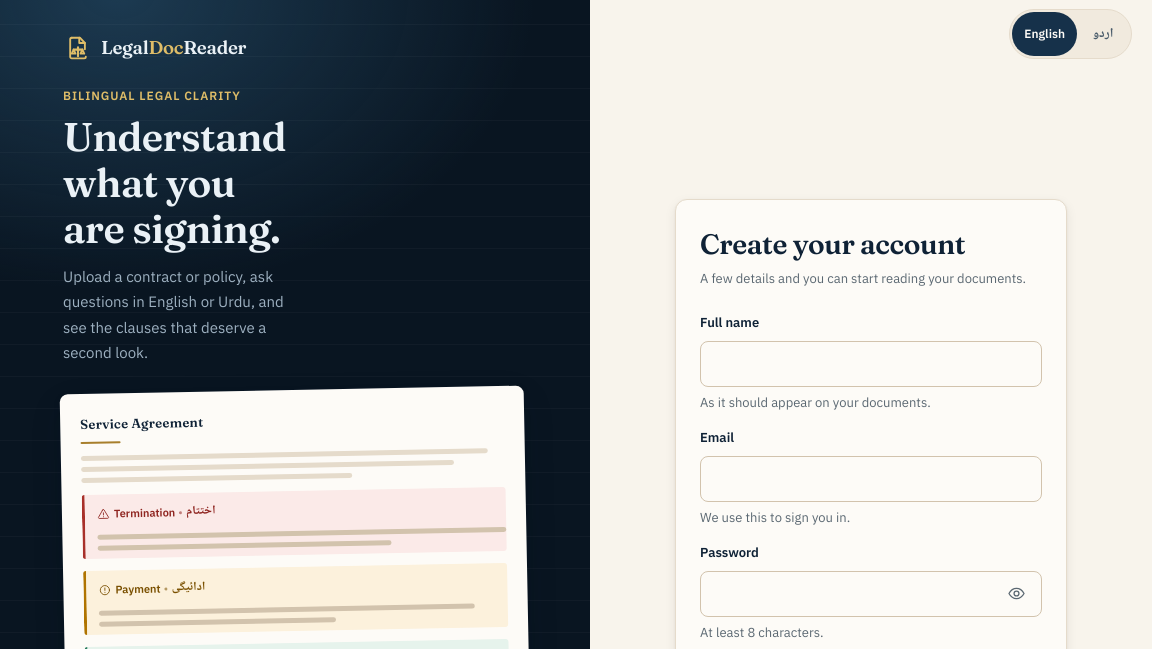
Scenario: SignUp form › shows a server-problem banner for a 500
Type "Ayesha Khan" into the field labelled "Full name".
click(871, 364); type("Ayesha Khan")  # box [700,341,1042,387]
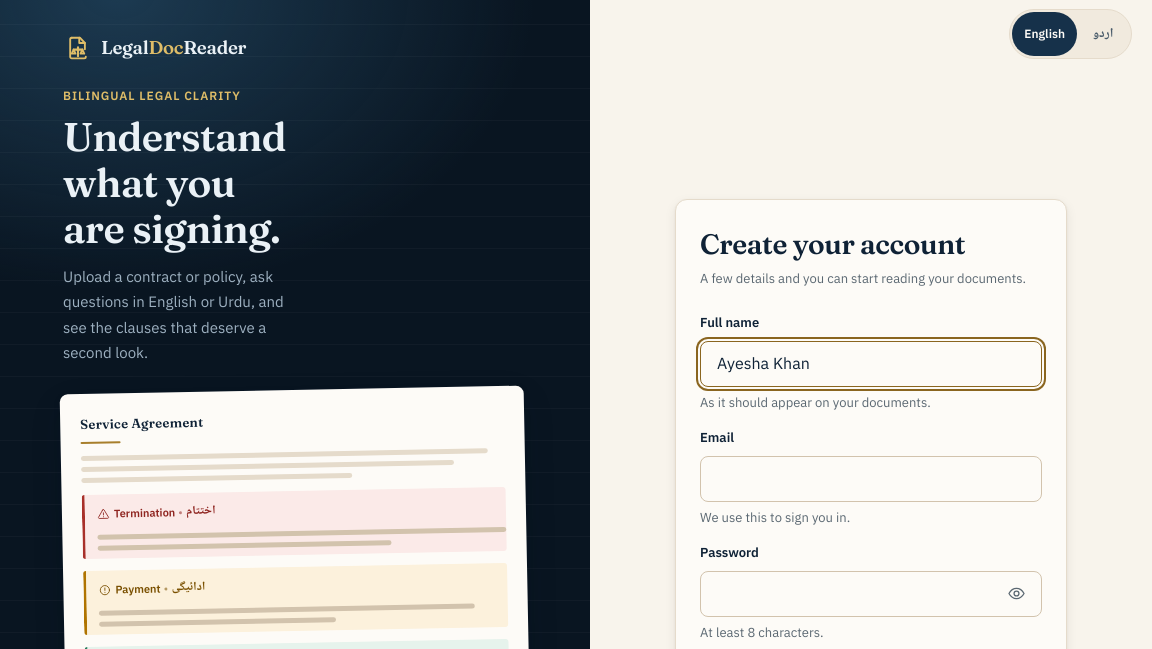
Type "ayesha@example.com" into the field labelled "Email".
click(871, 479); type("ayesha@example.com")  # box [700,456,1042,502]
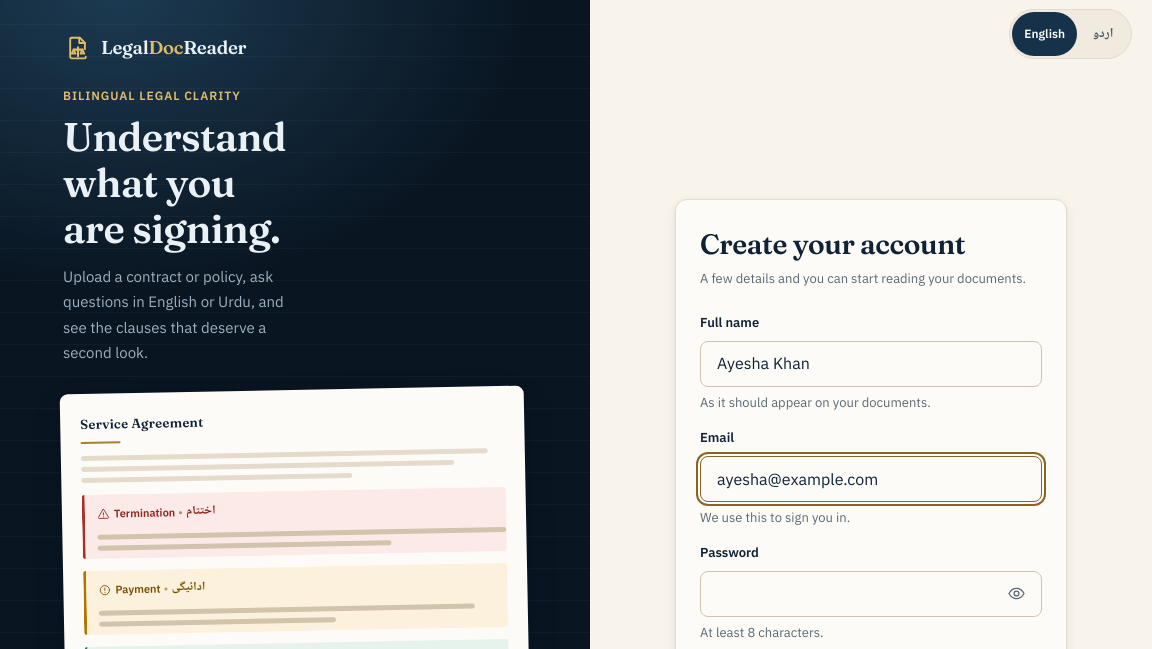
Type "S3cure-pass!" into the password field with id "signup-password".
click(871, 594); type("S3cure-pass!")  # box [700,571,1042,617]
(page scrolled)
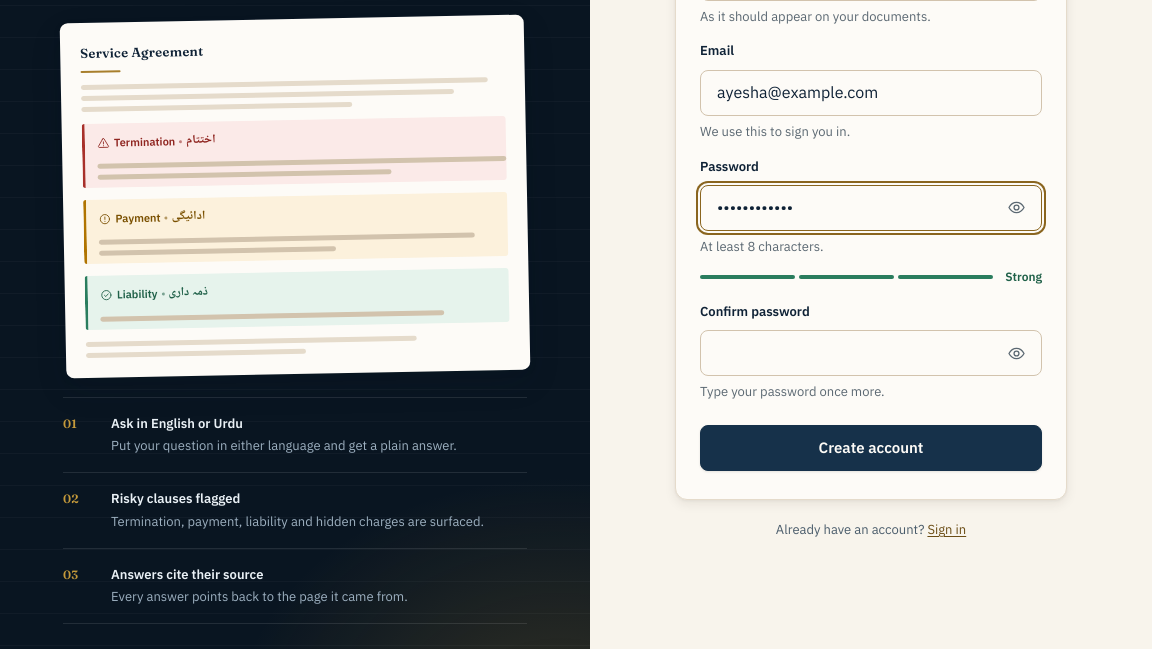
Type "S3cure-pass!" into the password field with id "signup-confirm-password".
click(871, 353); type("S3cure-pass!")  # box [700,330,1042,376]
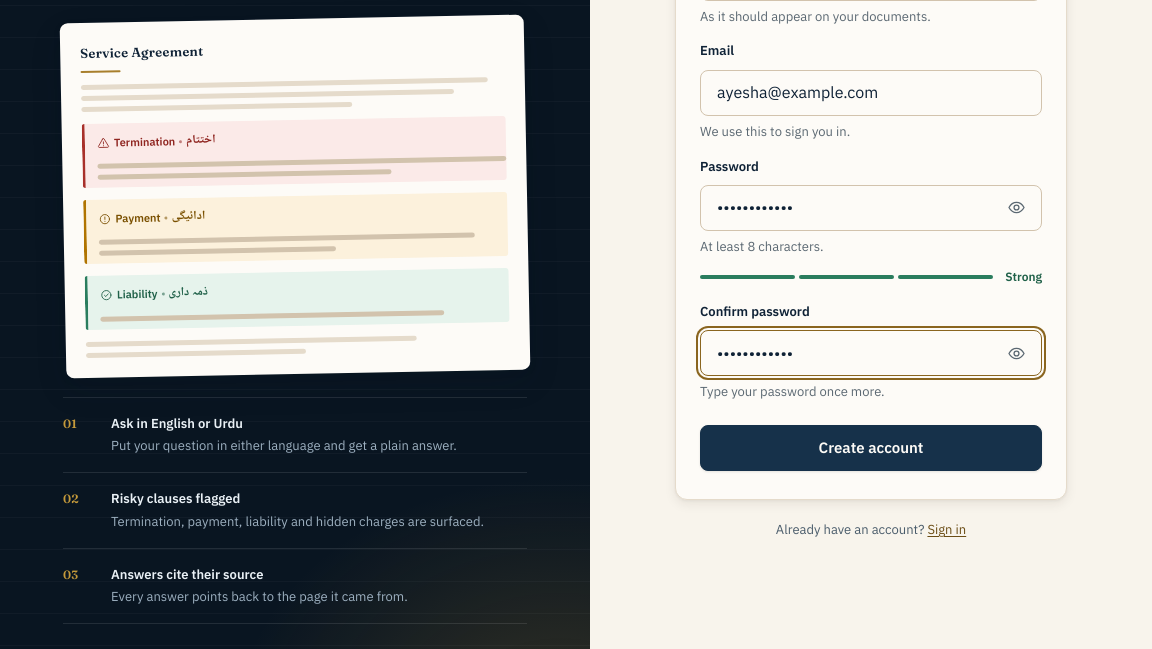
Click the button "Create account".
click(871, 448)  # box [700,425,1042,471]
(page scrolled)
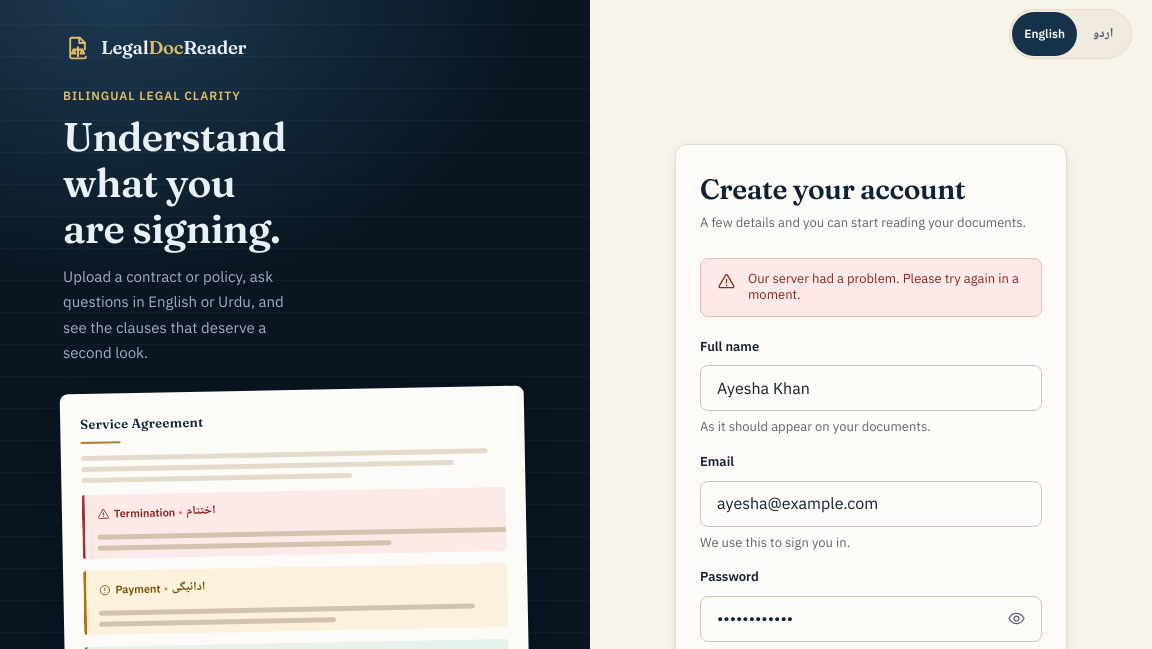
Check: the message reads "Our server had a problem. Please try again in a moment.", box [748,270,1019,303]
